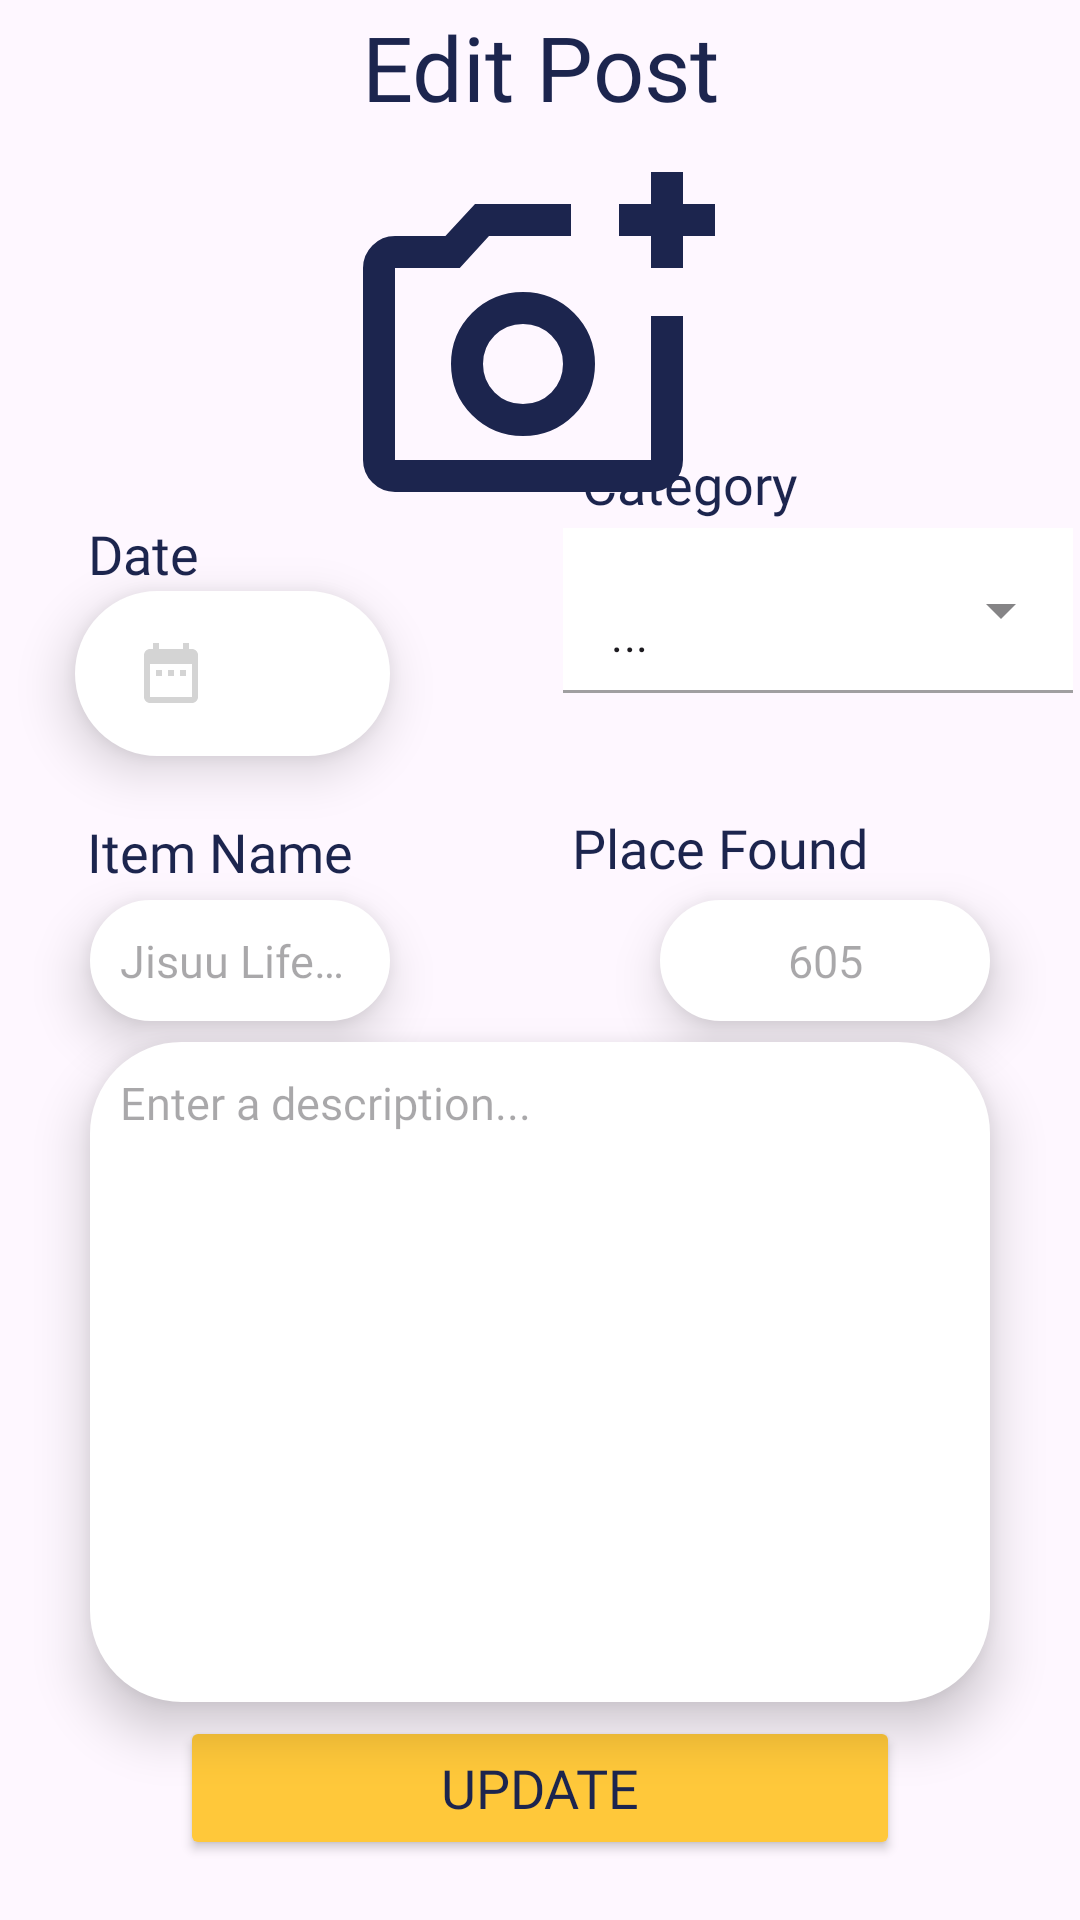

Locate icon controls on the screen. Image size 1080*1920, boxes as bbox(x1, y1, x2, y2).
add photo: bbox(363, 172, 720, 517)
